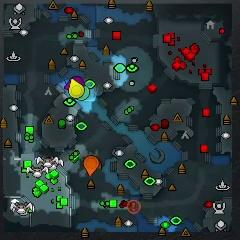p2: (78, 86, 90, 101)
p3: (64, 76, 84, 90)
p4: (69, 78, 83, 98)
p5: (84, 156, 100, 176)
